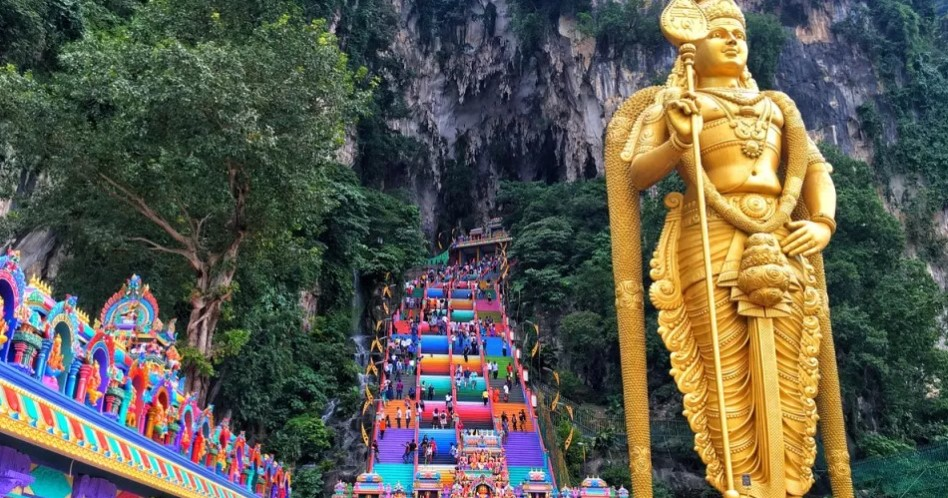Hindu Temple: (595, 3, 849, 493)
